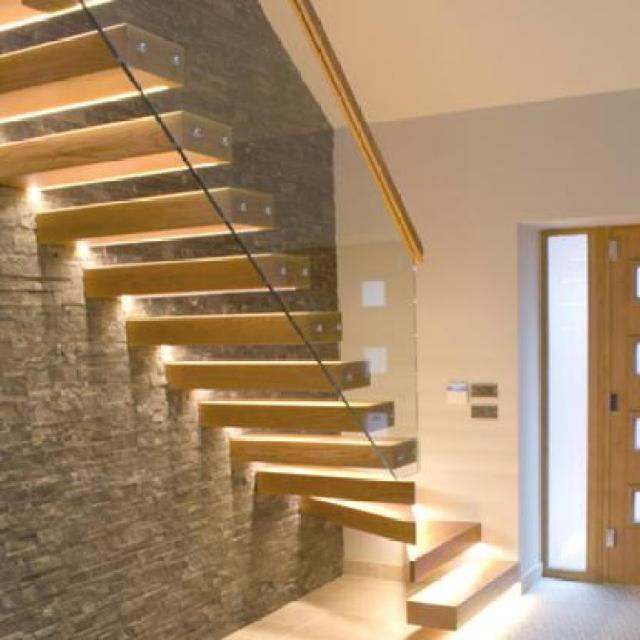stair: (1, 0, 524, 628)
